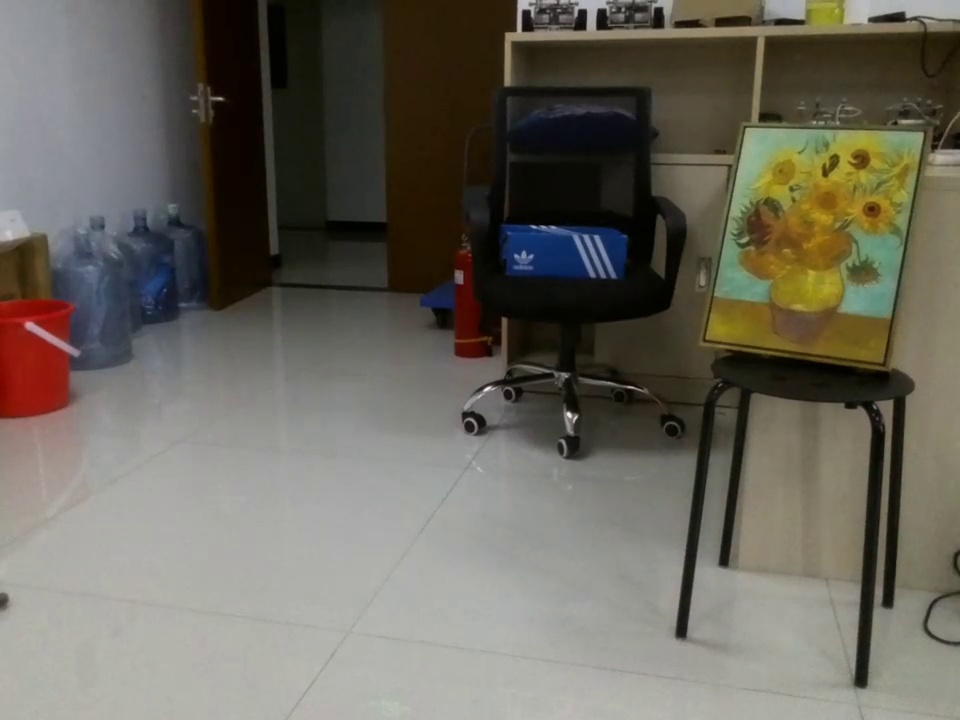painting: (706, 122, 928, 378)
